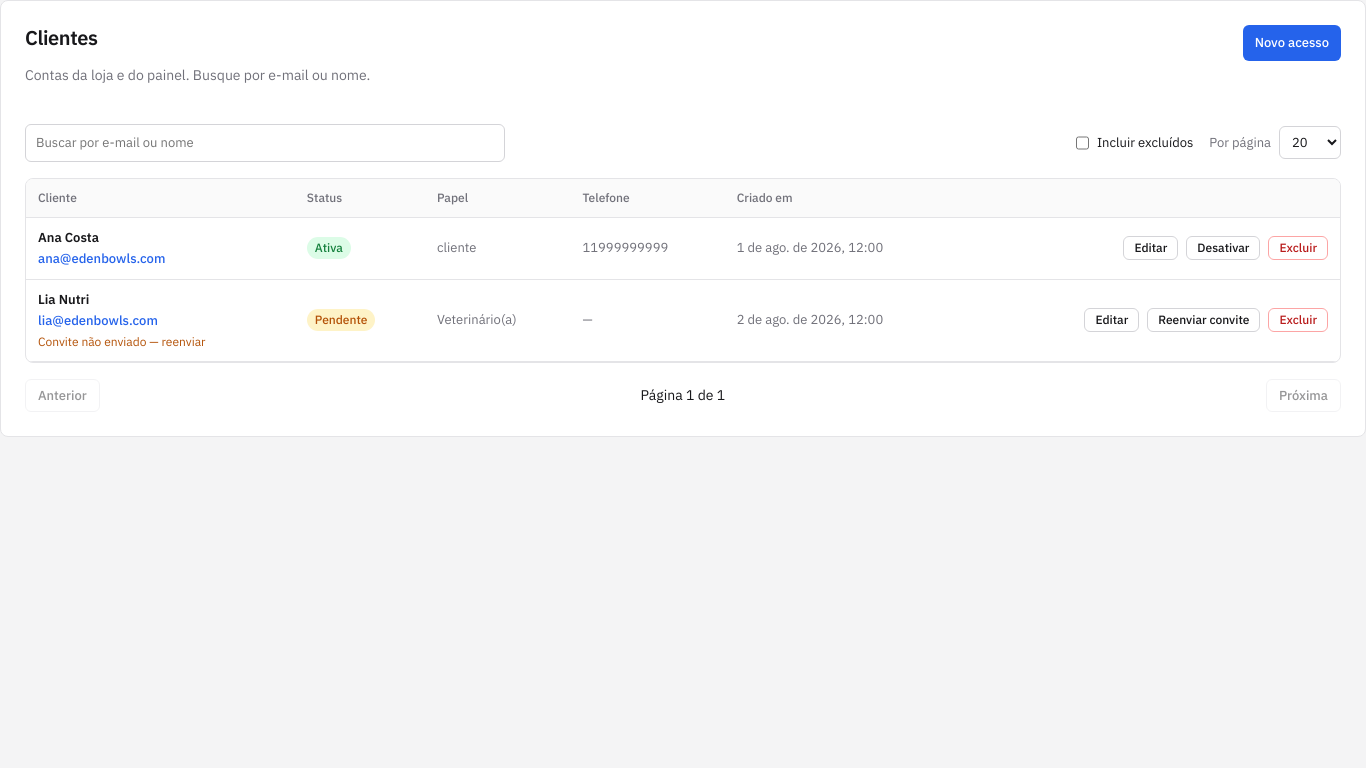
Test case: UsersPage access CRUD › creates a pending access with role and does not display a password
Click the button "Novo acesso" at coordinates (1292, 43), box [1243,25,1341,60]
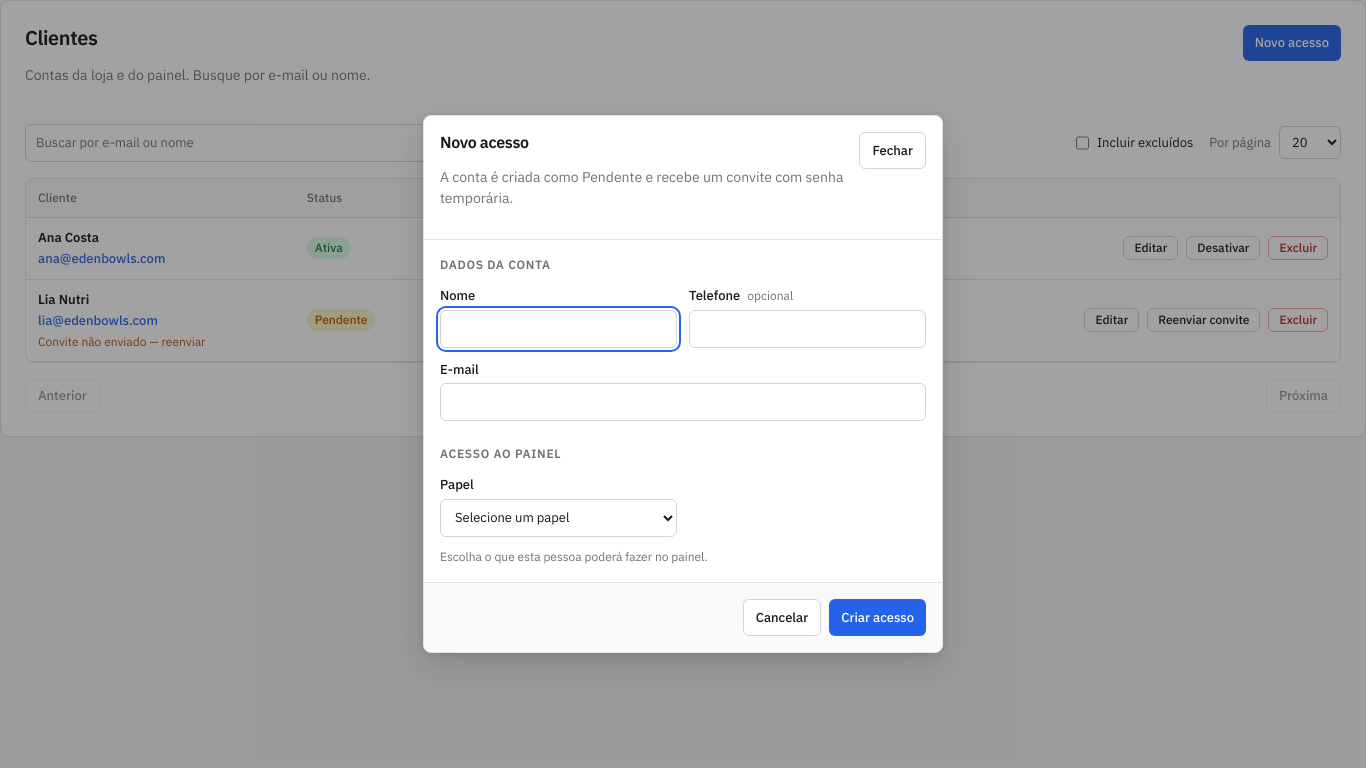
Type "Lia" into the field labelled "Nome" at coordinates (558, 329), box [440,310,677,348]
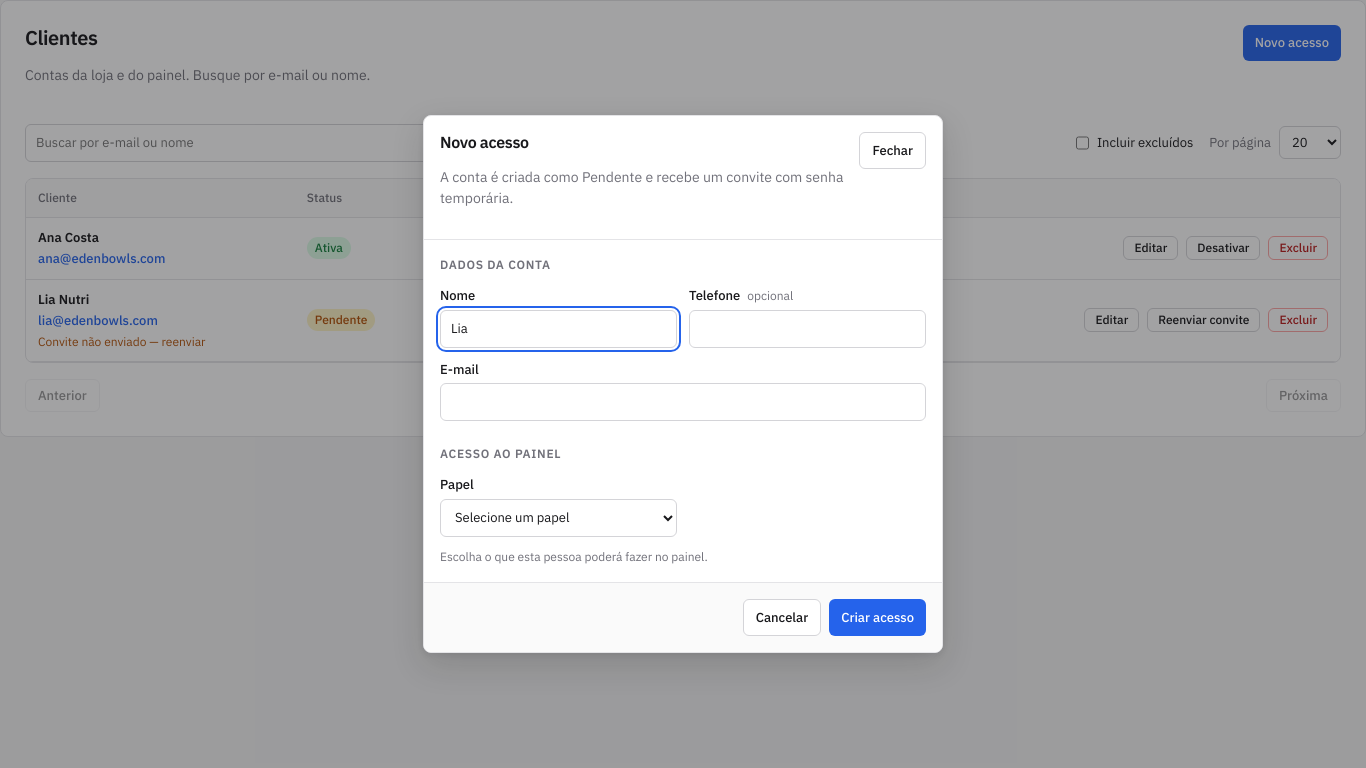
Type "nova.lia@edenbowls.com" into the field labelled "E-mail" at coordinates (683, 402), box [440,383,926,421]
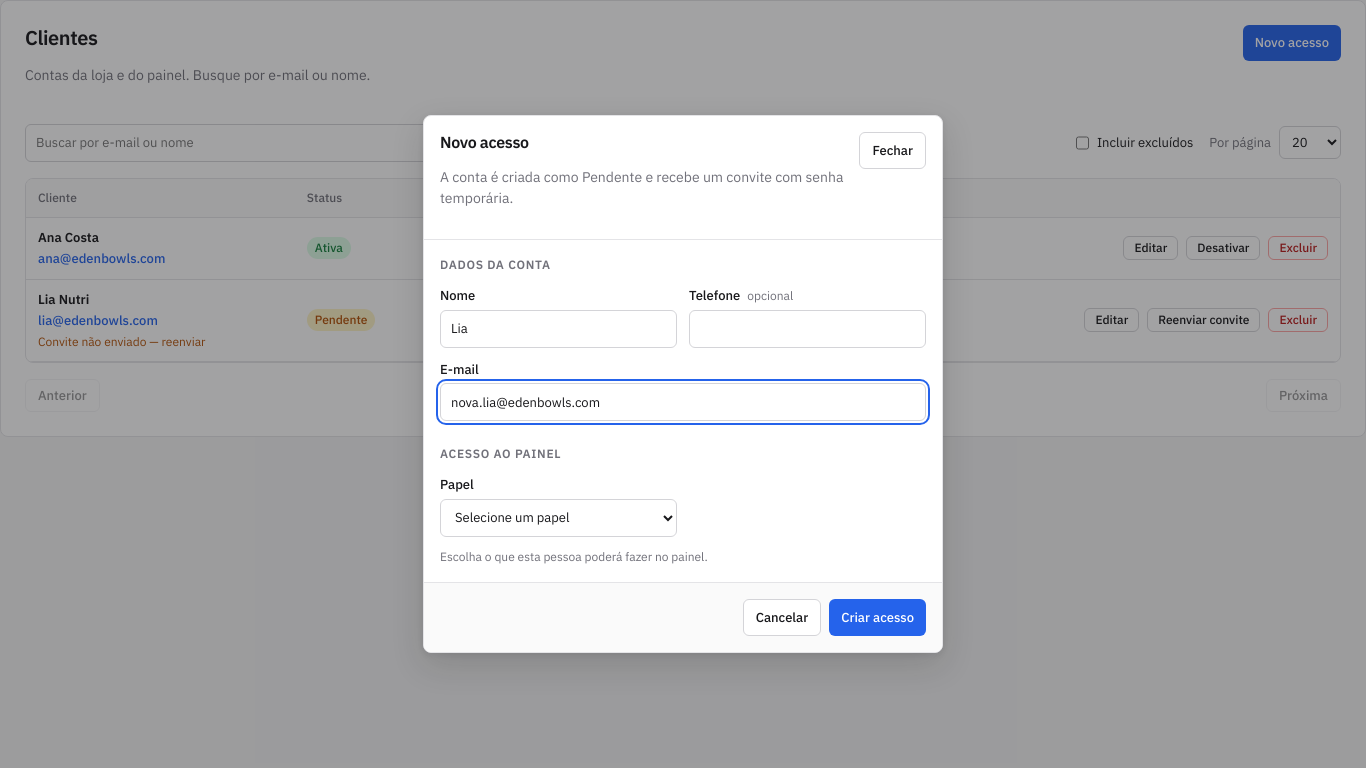
Select "Veterinário(a)" in the dropdown labelled "Papel" at coordinates (558, 518), box [440,499,677,537]
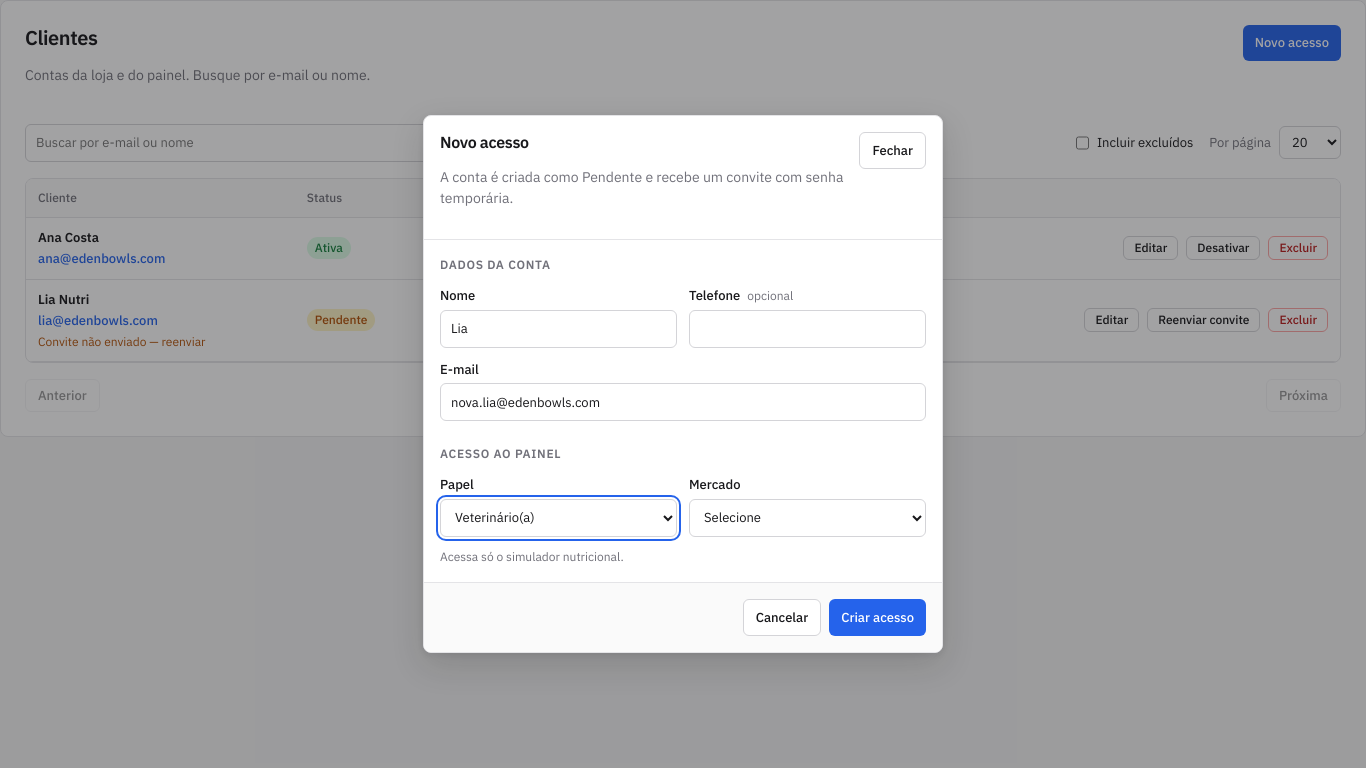
Select "Estados Unidos" in the dropdown labelled "Mercado" at coordinates (808, 518), box [689,499,926,537]
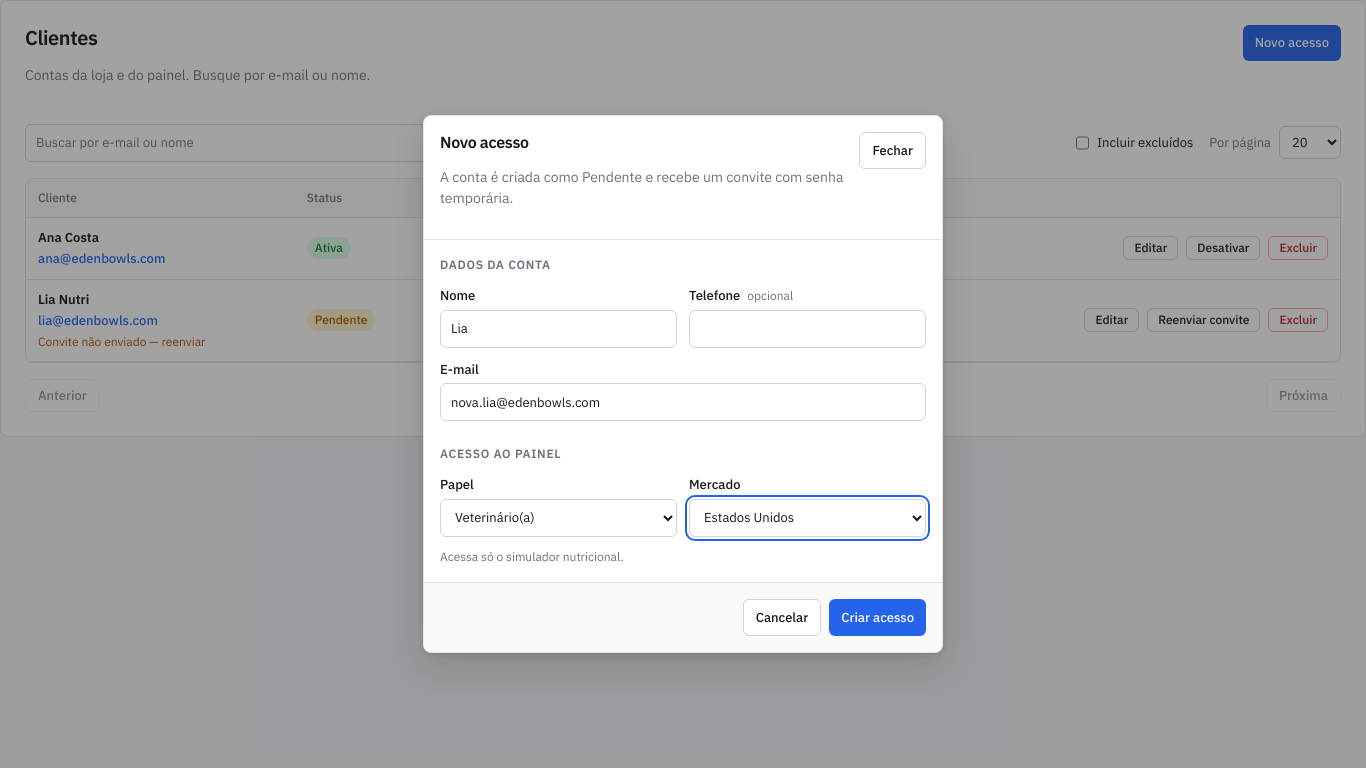
Click the button "Criar acesso" at coordinates (878, 617), box [829,599,926,636]
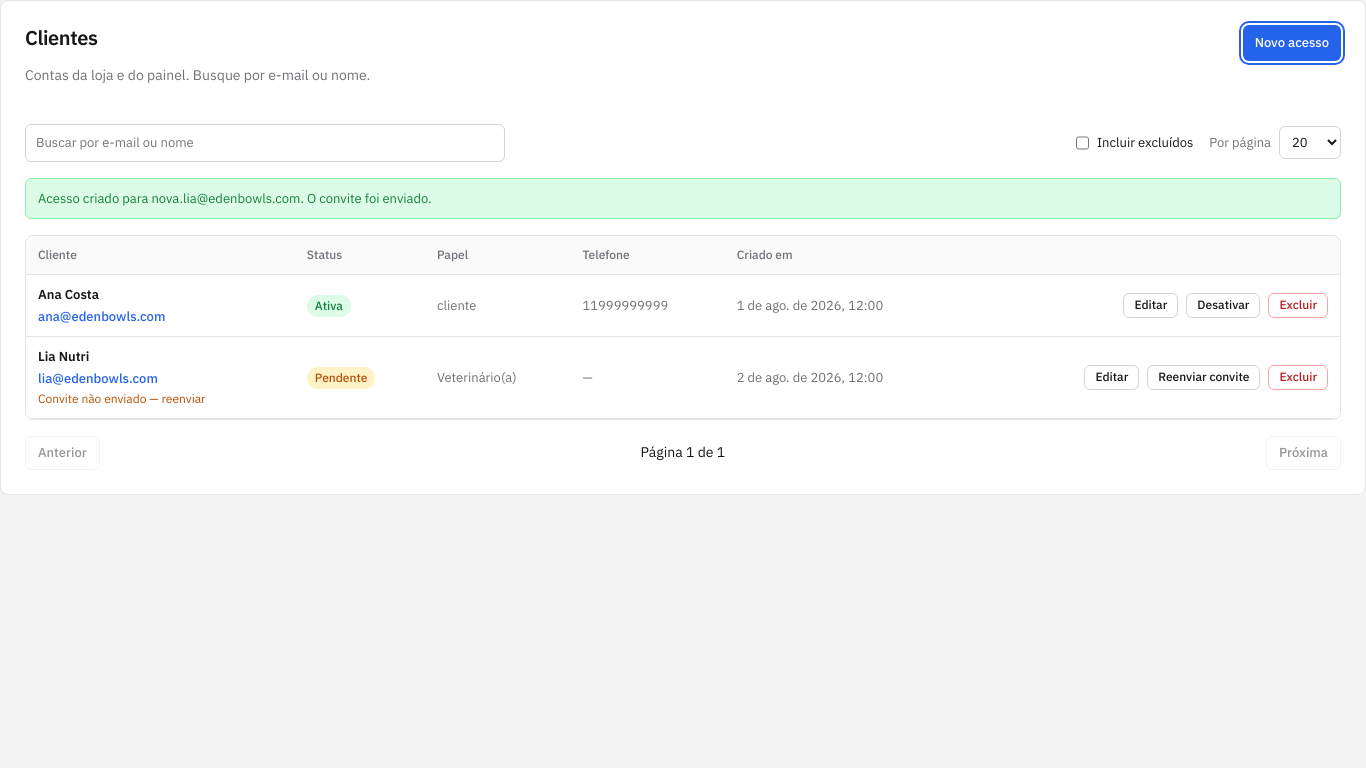
Expected: the text "Acesso criado para nova.lia@edenbowls.com" is shown, [38,190,432,206]
